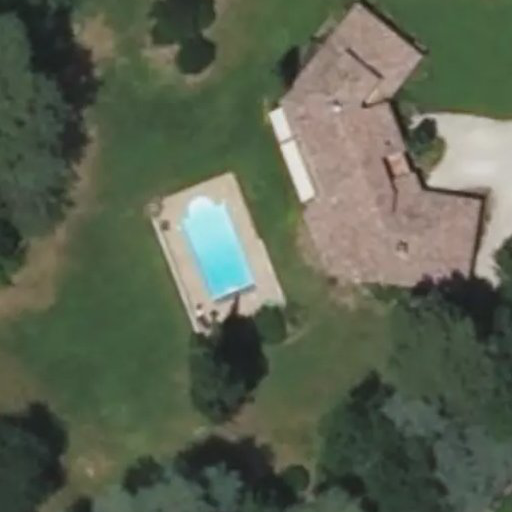pool: (189, 214, 307, 250)
